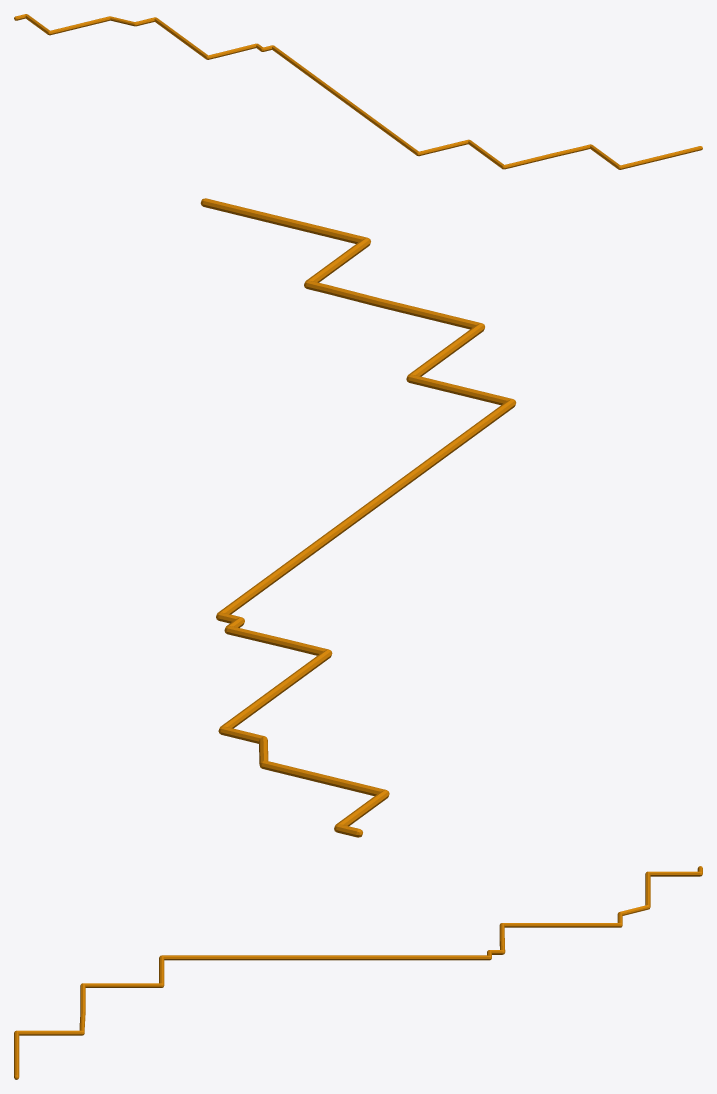
3 views of the same model, one above another, from view 1: azimuth 30°, elevation 25°; view 2: azimuth 150°, elevation 25°; view 3: azimuth 270°, elevation 25° (orthographic). The views are drawn at different scales.
Bounding box in the file's own units: 1905 × 20 × 2627.
